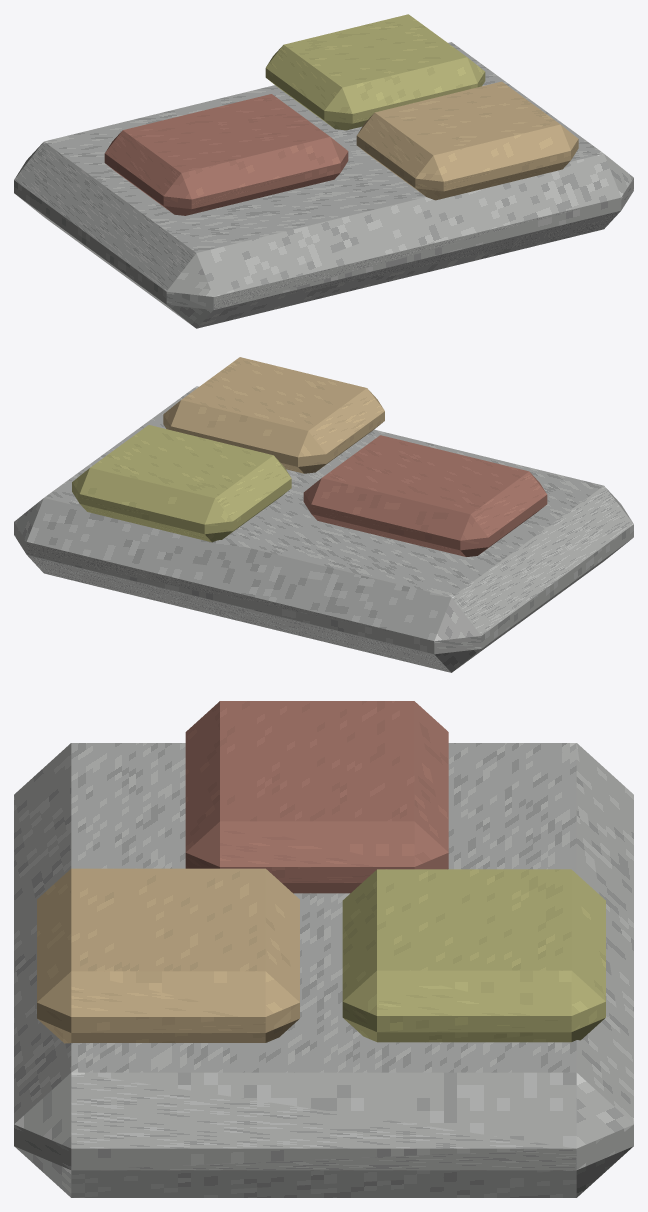
Rendered from frozen_dinner.glb.
The picture shows the model from 3 angles, top to bottom: view 1: azimuth 30°, elevation 25°; view 2: azimuth 150°, elevation 25°; view 3: azimuth 270°, elevation 25°; orthographic projection. The views are drawn at different scales.
Visible parts, largest first — view 1: block_compartmented frozen dinner tray, block_frozen portion (×3); view 2: block_compartmented frozen dinner tray, block_frozen portion (×3); view 3: block_compartmented frozen dinner tray, block_frozen portion (×3).
Boxes of the visible parts, x1=… form: block_compartmented frozen dinner tray: x1=14, y1=42, x2=633, y2=328; block_frozen portion (×3): x1=104, y1=14, x2=578, y2=215; block_compartmented frozen dinner tray: x1=14, y1=386, x2=633, y2=672; block_frozen portion (×3): x1=72, y1=357, x2=547, y2=556; block_compartmented frozen dinner tray: x1=14, y1=743, x2=633, y2=1197; block_frozen portion (×3): x1=37, y1=701, x2=605, y2=1043.
Bounding box in the file's own units: 0.1516 × 0.0358 × 0.1051.
1 material, 1 textured.
